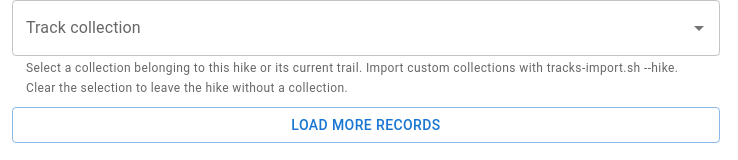
Scenario: collection choices follow the hike and trail and reset after a trail change
Earlier steps of the test are not shown.
Step 1. Press the mouse on the dropdown labelled "Track collection" → [351, 28], box x1=21 y1=9 x2=681 y2=47
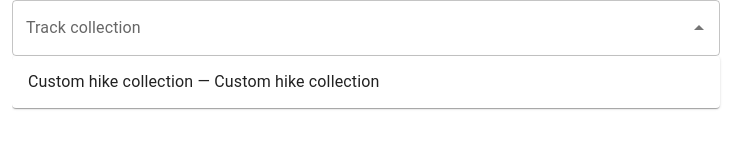
Expected: the option "Custom hike collection — Custom hike collection" is shown, x1=28 y1=72 x2=380 y2=91
